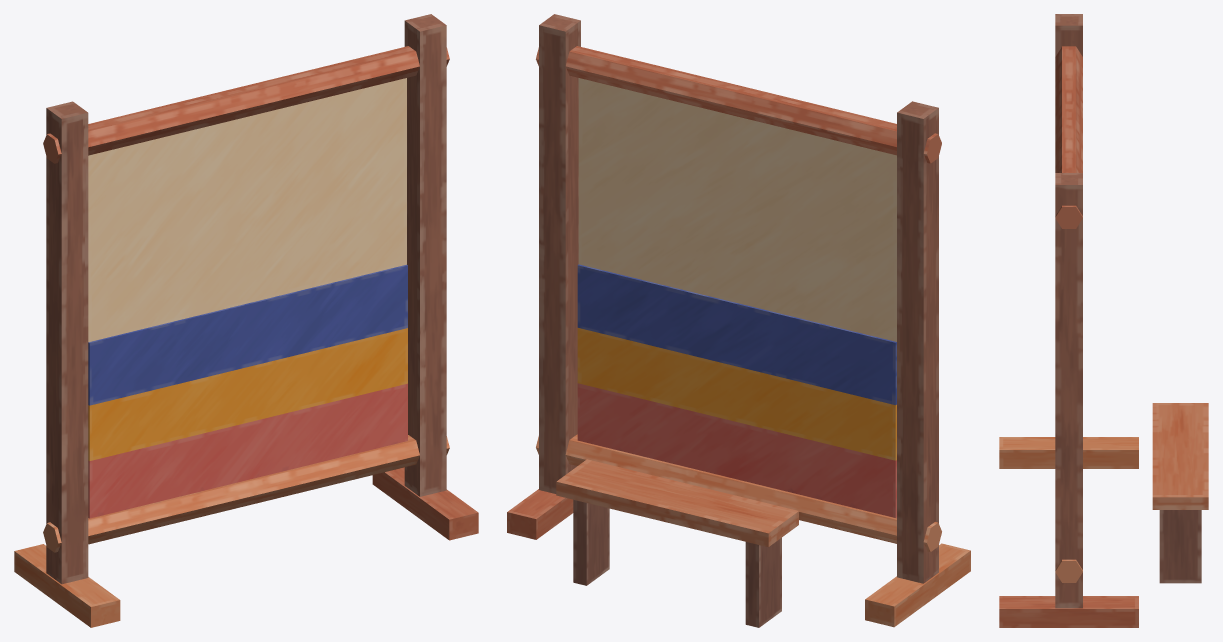
The model's file is loom_low.fbx.
The picture shows the model from 3 angles, left to right: view 1: azimuth 30°, elevation 25°; view 2: azimuth 150°, elevation 25°; view 3: azimuth 270°, elevation 25°; orthographic projection. The views are drawn at different scales.
Parts seen in each view (by area): view 1: loom; view 2: loom; view 3: loom.
Part boxes in pixels (bbox=[...]): loom: bbox=[14, 14, 478, 627]; loom: bbox=[507, 14, 970, 627]; loom: bbox=[999, 14, 1208, 627].
Bounding box in the file's own units: 5.9 × 7 × 3.
Materials: 1 (1 with a texture image).
